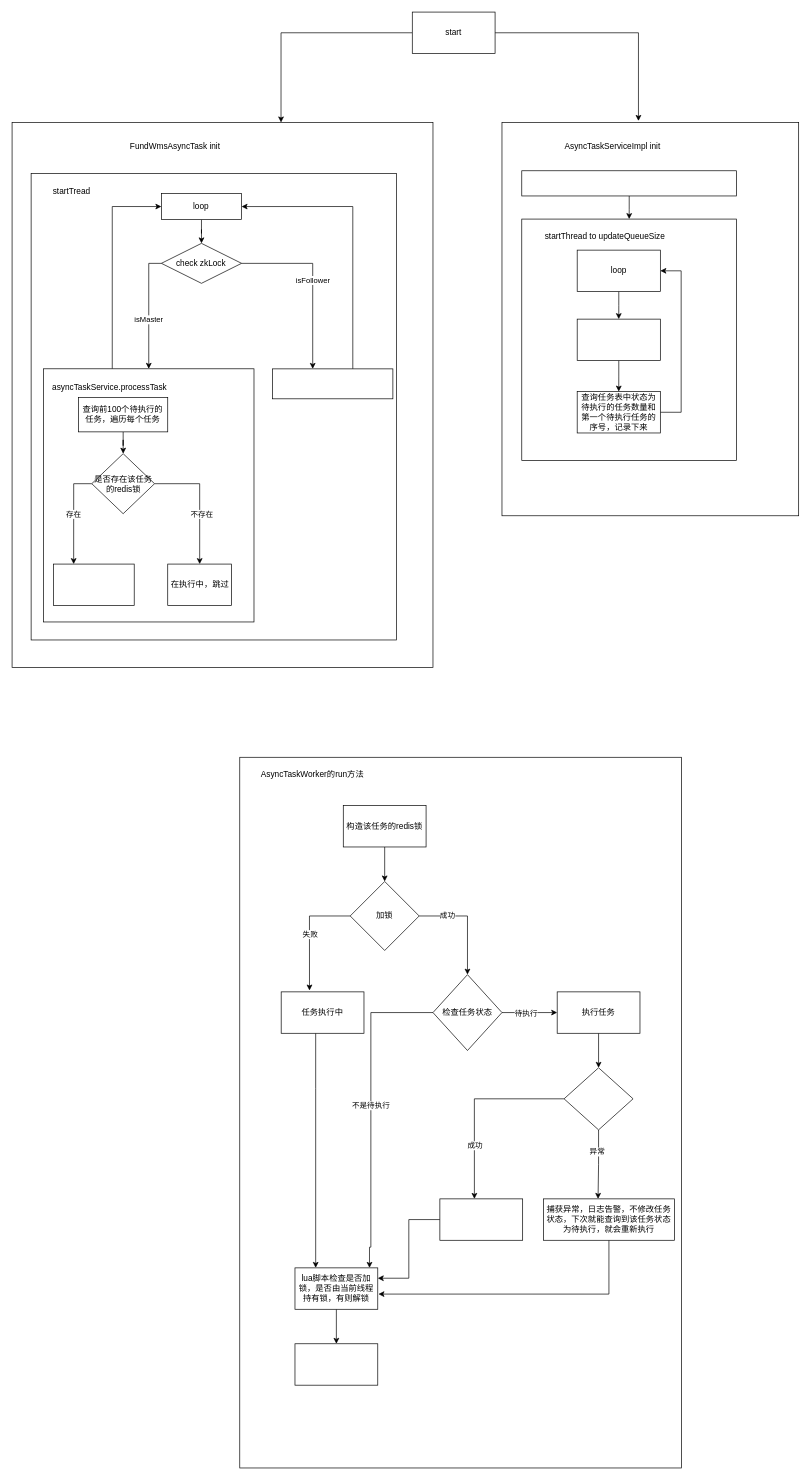
Some shapes in this 811 by 1480 pixel diagram are drawn without their labels. Each missing label, with the centre of its shape:
end: point 336,1364
init executorPool: point 629,183
sleep 1s: point 332,383
sleep 3s: point 618,339
修改任务状态: point 481,1219
执行成功？: point 598,1098
构建AsyncTaskWork提交到线程池: point 93,584
